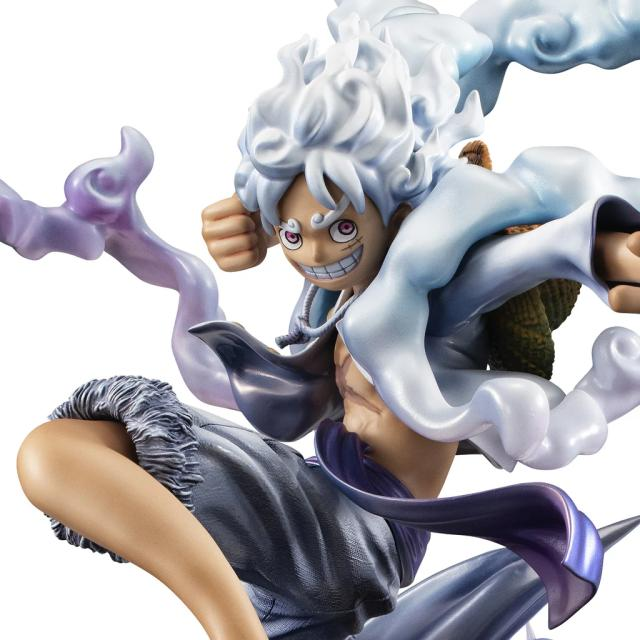luffy: (33, 4, 640, 639)
